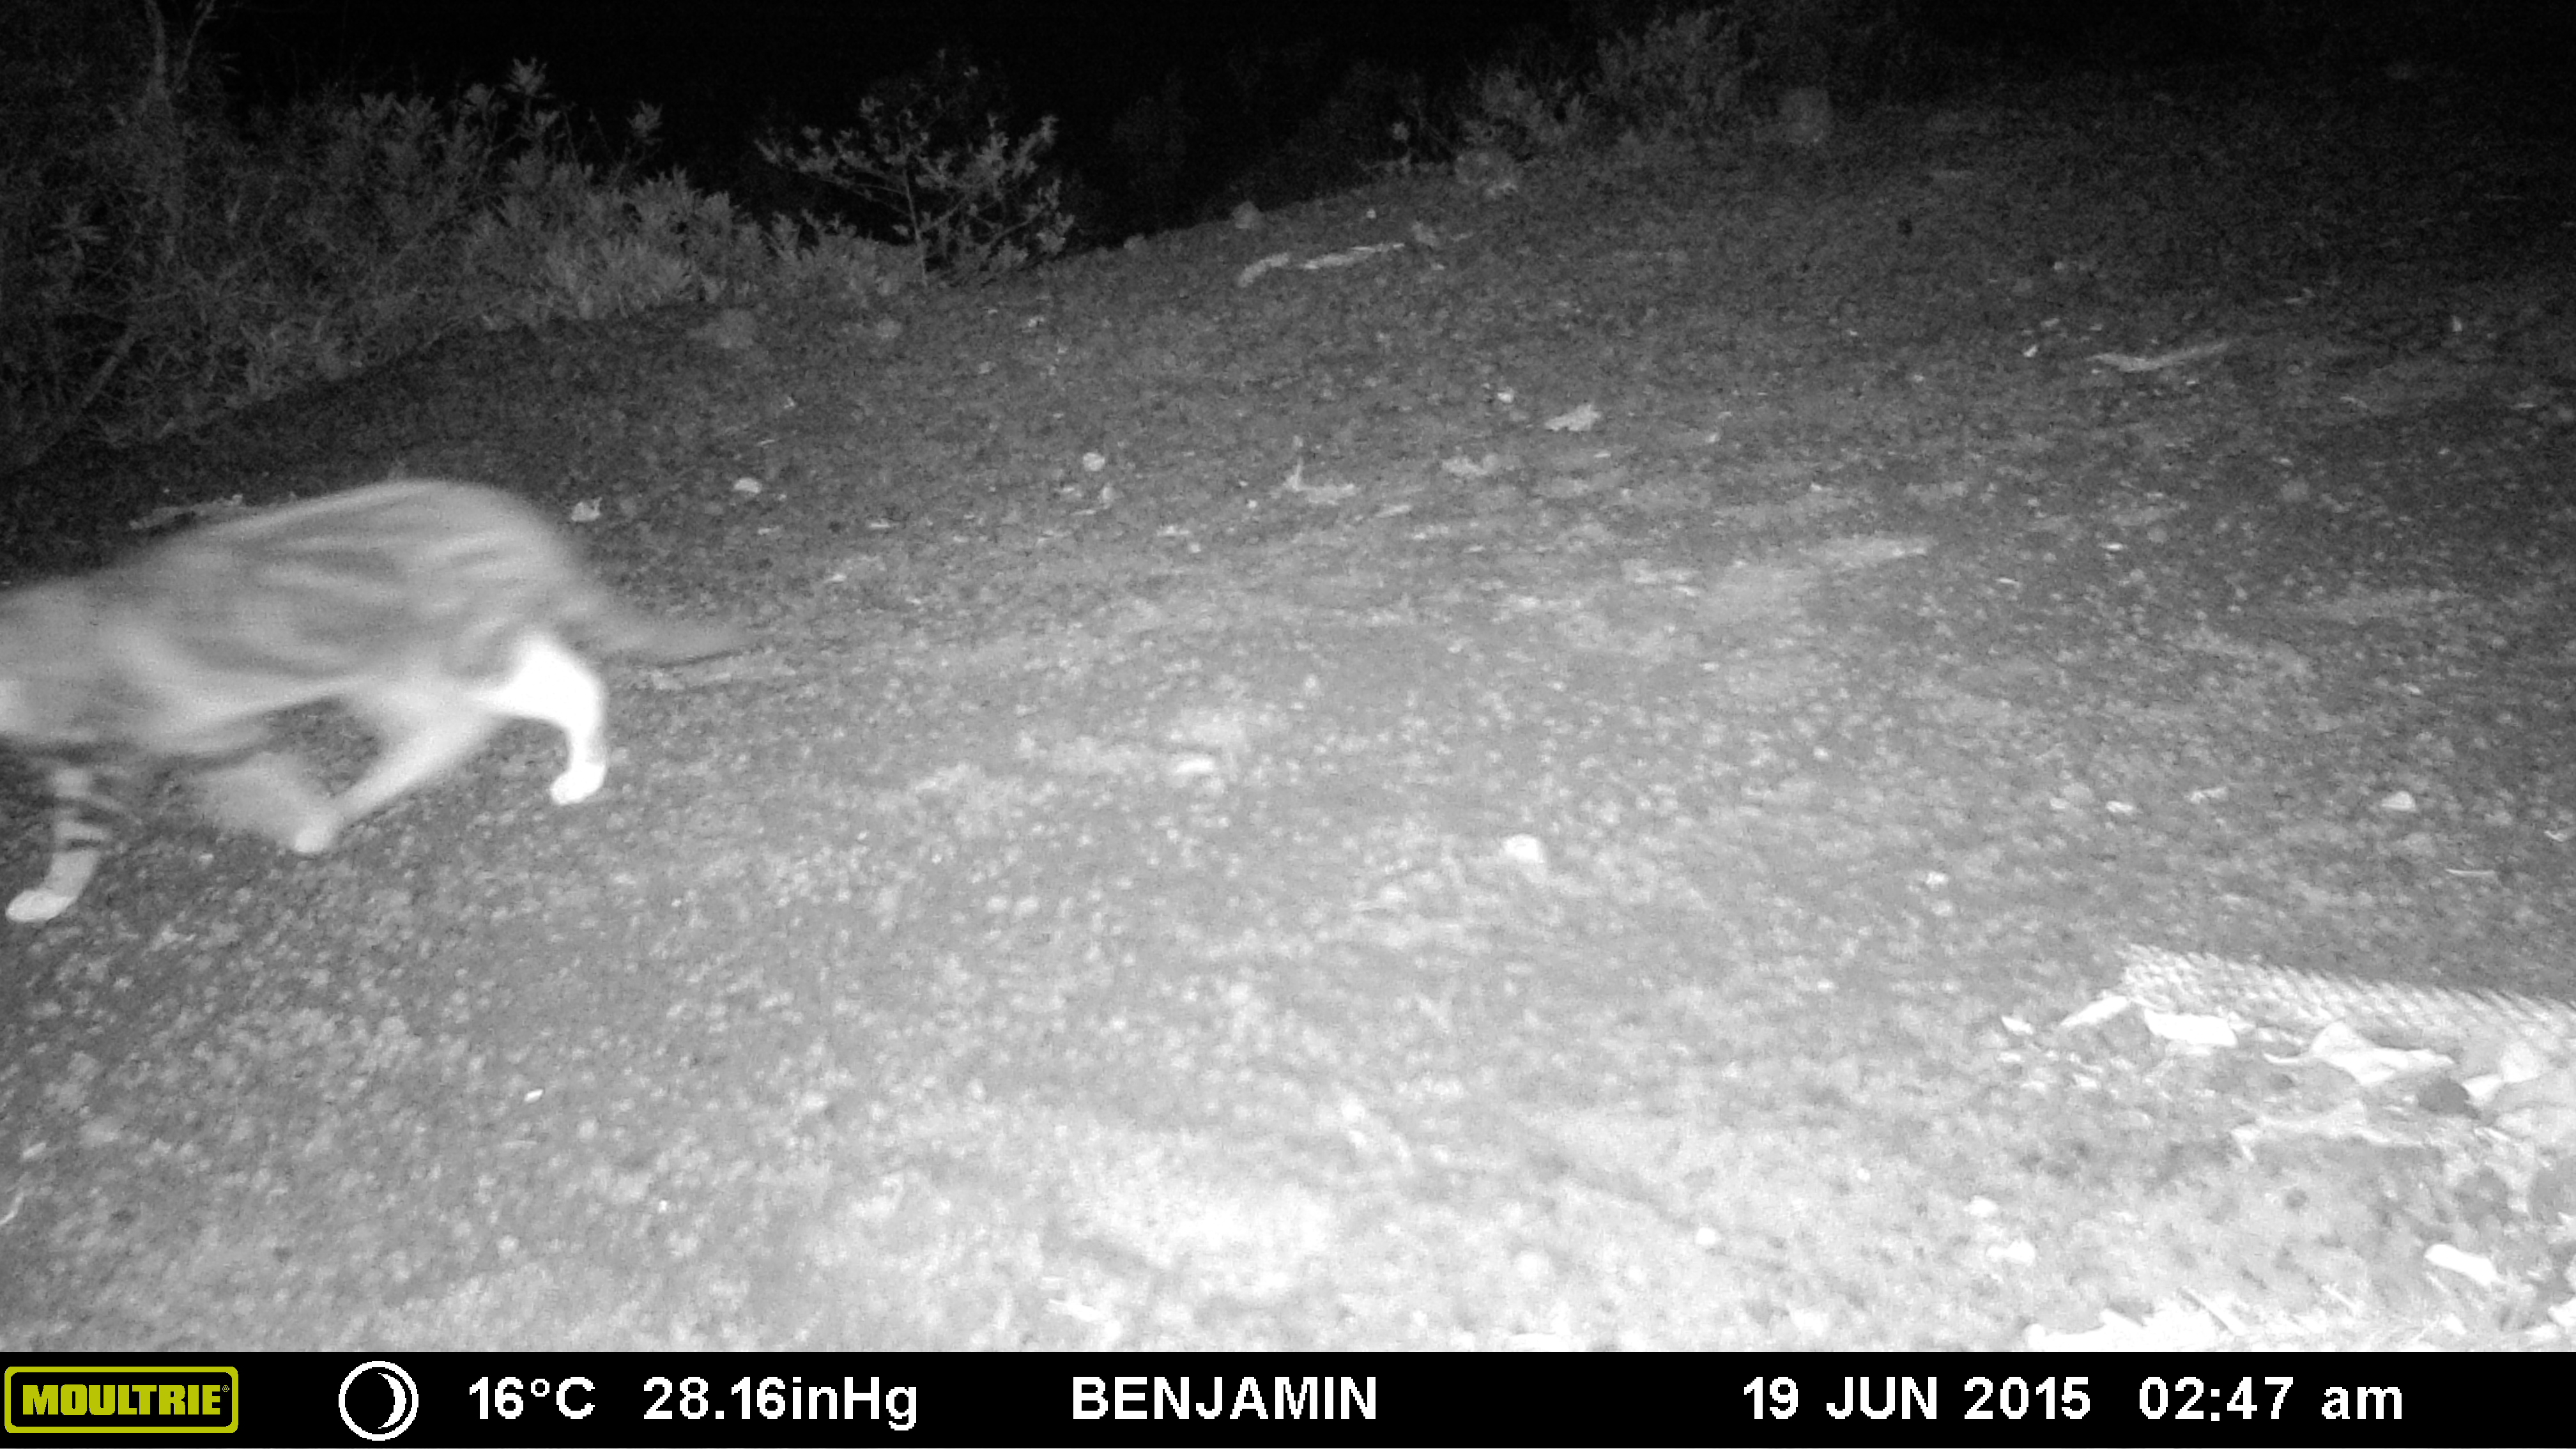cat: (4, 456, 755, 945)
